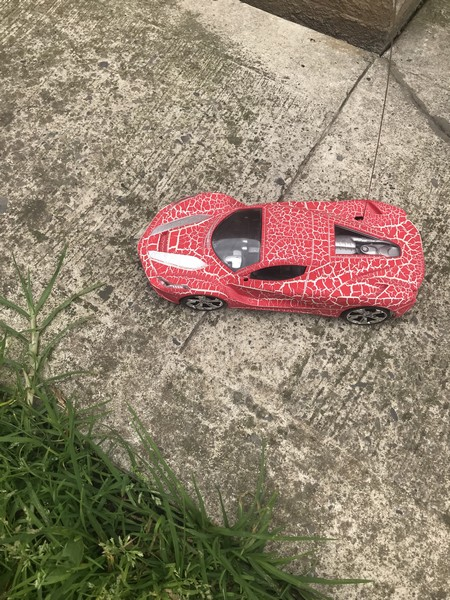RC: (135, 188, 428, 326)
